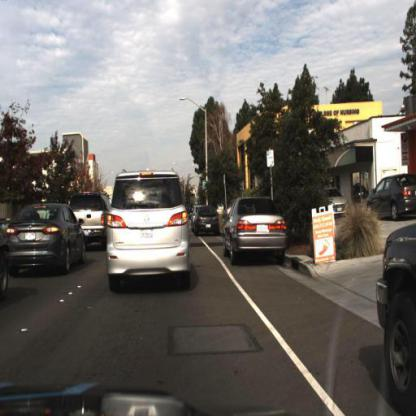car: (107, 169, 190, 297), (376, 217, 415, 412), (7, 202, 87, 268), (221, 198, 287, 261), (362, 172, 416, 220), (72, 192, 109, 248), (318, 174, 353, 218), (194, 205, 220, 237), (327, 187, 347, 219)
